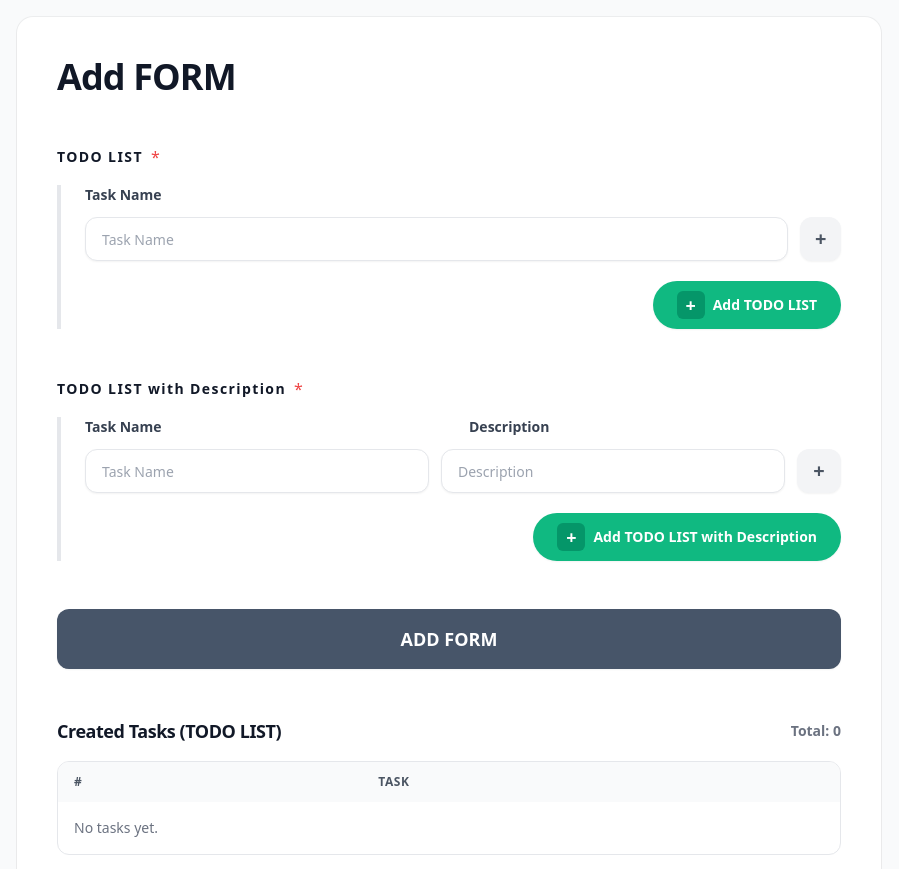
shows validation errors when submitting empty rows
Click the button "ADD FORM" at (449, 639), box 57,609 -> 841,669
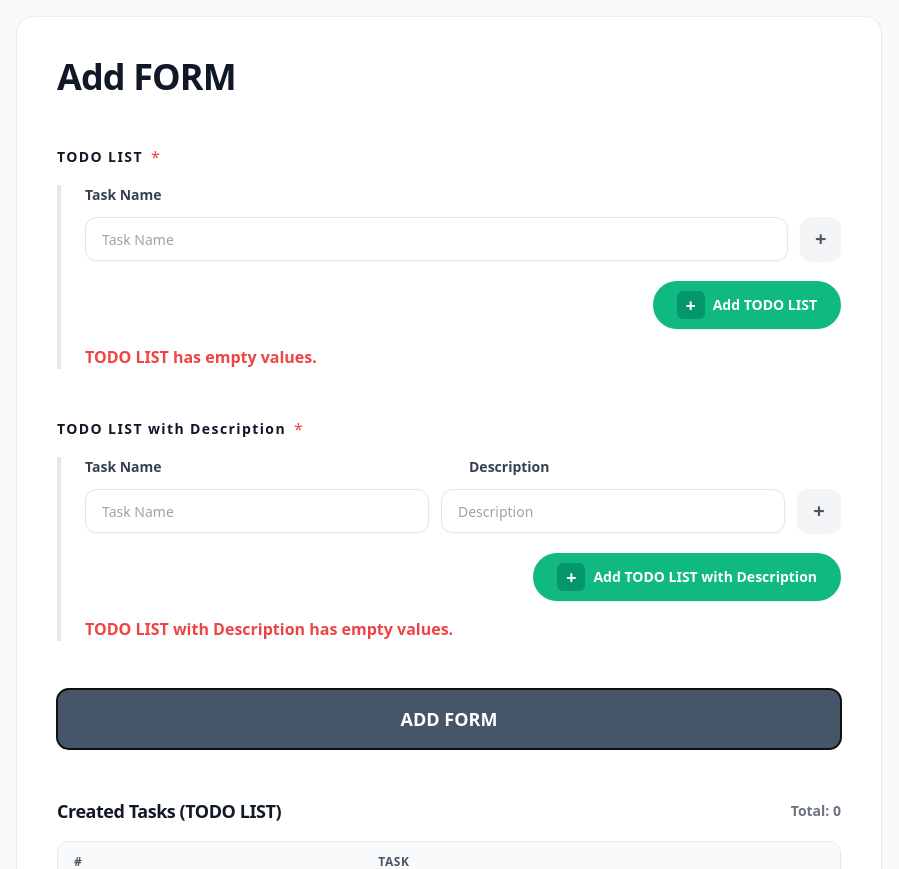
Expected: the text "TODO LIST has empty values." is shown, 85,346 -> 317,368
Expected: the text "TODO LIST with Description has empty values." is shown, 85,618 -> 453,640
